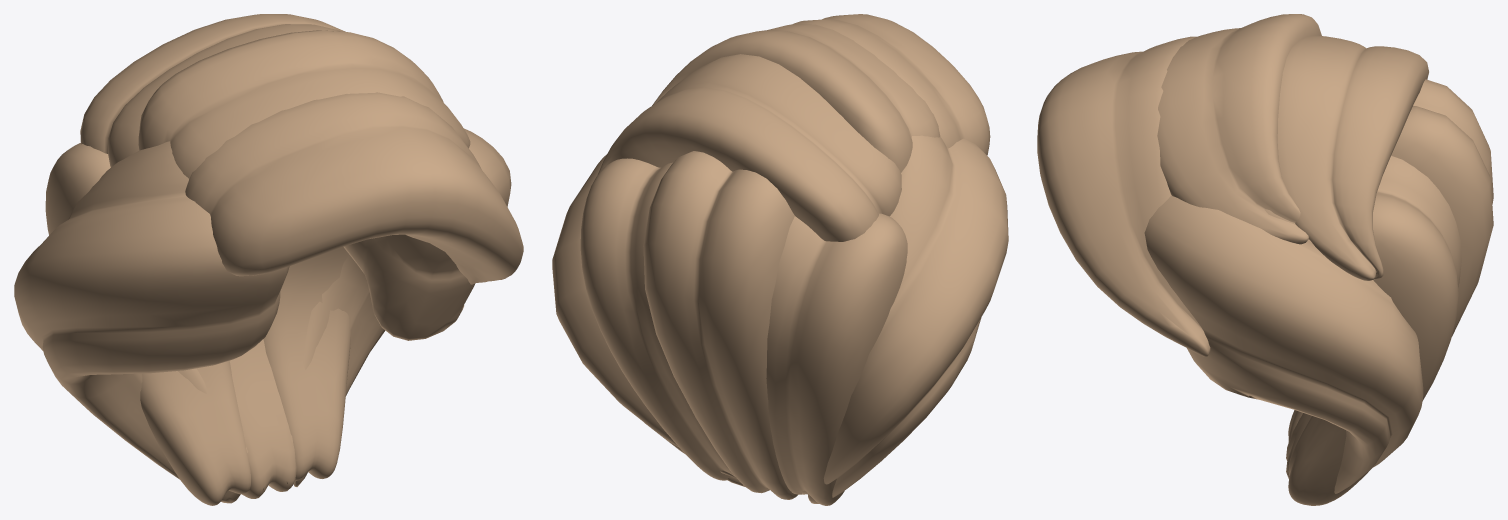
The model's file is hair-11-c9909127.glb.
3 renders of one model, left to right at view 1: azimuth 30°, elevation 25°; view 2: azimuth 150°, elevation 25°; view 3: azimuth 270°, elevation 25°, orthographic. The views are drawn at different scales.
Parts seen in each view (by area): view 1: Geo_White_Older_Female_Hair_11.001; view 2: Geo_White_Older_Female_Hair_11.001; view 3: Geo_White_Older_Female_Hair_11.001.
Part boxes in pixels (x1,y1,x2,y2): Geo_White_Older_Female_Hair_11.001: (14,14,523,505); Geo_White_Older_Female_Hair_11.001: (552,14,1008,505); Geo_White_Older_Female_Hair_11.001: (1037,14,1493,505).
Bounding box in the file's own units: 1.92 × 1.97 × 1.79.
